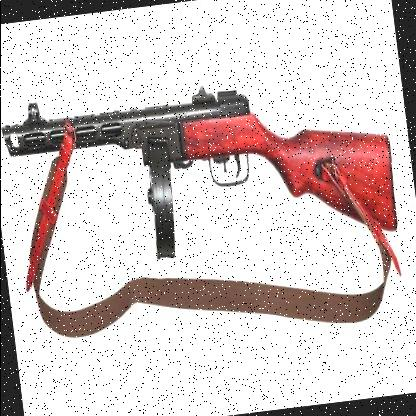rifle: (0, 57, 403, 292)
